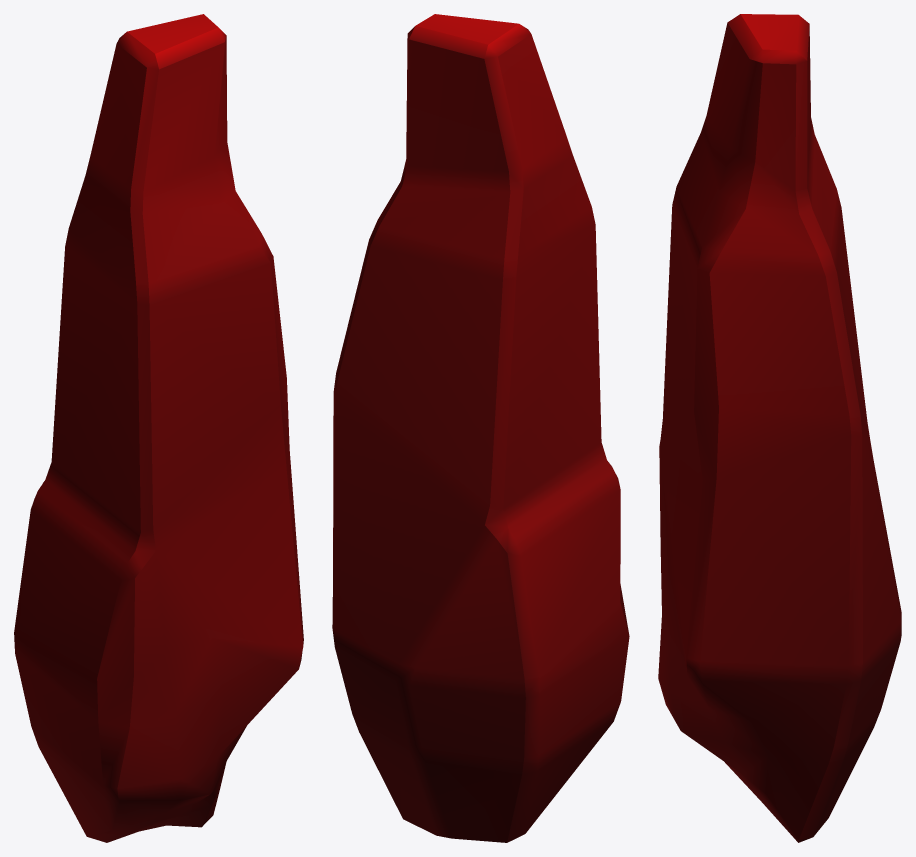
File: geology-carvedstone-monolith_v6.fbx
3 renders of one model, left to right at view 1: azimuth 30°, elevation 25°; view 2: azimuth 150°, elevation 25°; view 3: azimuth 270°, elevation 25°, orthographic. The views are drawn at different scales.
Parts seen in each view (by area): view 1: Monolith_v6; view 2: Monolith_v6; view 3: Monolith_v6.
Boxes of the visible parts, left/top/right/bottom form: Monolith_v6: left=14, top=14, right=303, bottom=842; Monolith_v6: left=332, top=14, right=629, bottom=842; Monolith_v6: left=658, top=14, right=901, bottom=842.
Size of the model in its own units: 2.09 by 7.4 by 2.06.
